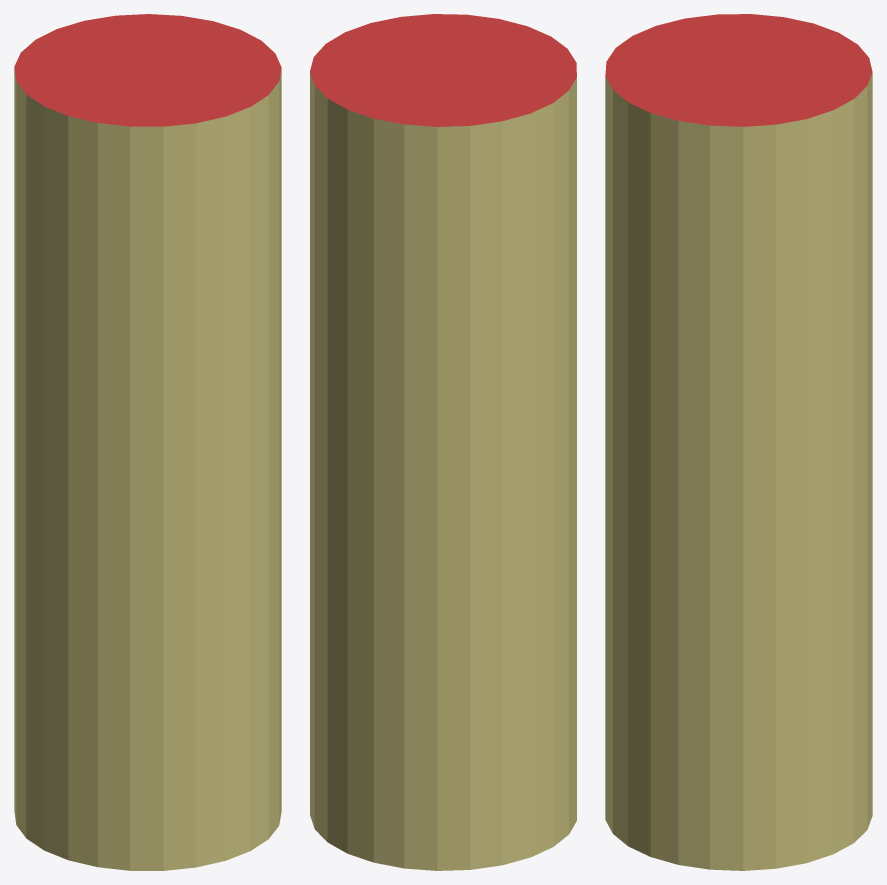
The picture shows the model from 3 angles, left to right: view 1: azimuth 30°, elevation 25°; view 2: azimuth 150°, elevation 25°; view 3: azimuth 270°, elevation 25°; orthographic projection.
Size of the model in its own units: 2.92 by 2.92 by 8.99.
